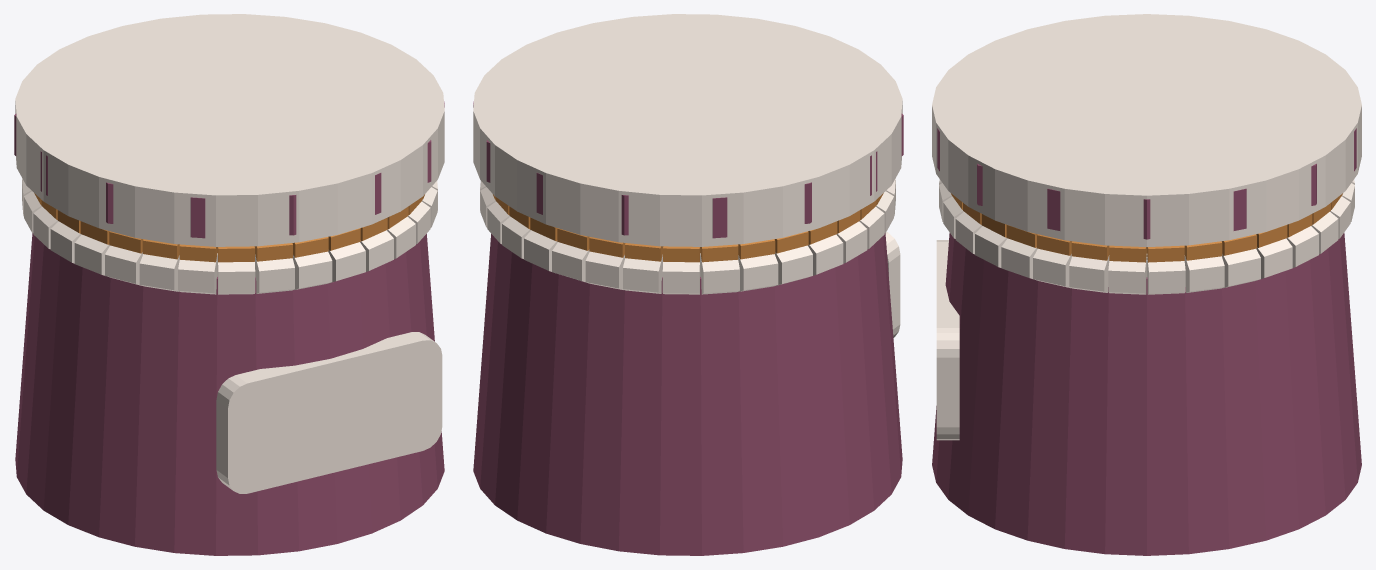
The model's file is sealjar.glb.
The picture shows the model from 3 angles, left to right: view 1: azimuth 30°, elevation 25°; view 2: azimuth 150°, elevation 25°; view 3: azimuth 270°, elevation 25°; orthographic projection.
Parts seen in each view (by area): view 1: jar base, lid, label, shoulder11, shoulder9, shoulder12, shoulder10, shoulder8, shoulder13, shoulder7, shoulder14, shoulder6 (+10 smaller); view 2: jar base, lid, shoulder20, shoulder22, shoulder19, shoulder21, shoulder23, shoulder18, label, shoulder24, shoulder17, shoulder25 (+10 smaller); view 3: jar base, lid, label, shoulder1, shoulder30, shoulder0, shoulder31, shoulder2, shoulder29, shoulder3, shoulder28, shoulder4 (+11 smaller).
Part boxes in pixels (box(x1,y1,x2,y2)): jar base: box(15, 233, 444, 555); lid: box(15, 14, 444, 246); label: box(216, 332, 442, 493); shoulder11: box(178, 254, 217, 294); shoulder9: box(255, 254, 294, 293); shoulder12: box(139, 254, 179, 291); shoulder10: box(217, 253, 255, 294); shoulder8: box(292, 251, 332, 289); shoulder13: box(105, 245, 143, 285); shoulder7: box(328, 242, 365, 283); shoulder14: box(74, 234, 109, 275); shoulder6: box(360, 230, 393, 271); jar base: box(473, 233, 902, 555); lid: box(473, 14, 902, 246); shoulder20: box(700, 254, 739, 294); shoulder22: box(623, 254, 662, 293); shoulder19: box(738, 254, 778, 291); shoulder21: box(662, 253, 700, 294); shoulder23: box(585, 251, 625, 289); shoulder18: box(774, 245, 812, 285); label: box(885, 232, 900, 337); shoulder24: box(552, 242, 589, 283); shoulder17: box(808, 234, 843, 275); shoulder25: box(524, 230, 557, 271); jar base: box(932, 233, 1361, 555); lid: box(932, 14, 1361, 246); label: box(936, 240, 959, 440); shoulder1: box(1069, 255, 1109, 292); shoulder30: box(1184, 255, 1224, 292); shoulder0: box(1108, 254, 1146, 294); shoulder31: box(1147, 254, 1185, 294); shoulder2: box(1033, 248, 1071, 288); shoulder29: box(1222, 248, 1260, 288); shoulder3: box(1001, 238, 1037, 278); shoulder28: box(1256, 238, 1292, 278); shoulder4: box(975, 226, 1007, 267).
Size of the model in its own units: 1.06 by 0.98 by 1.06.
